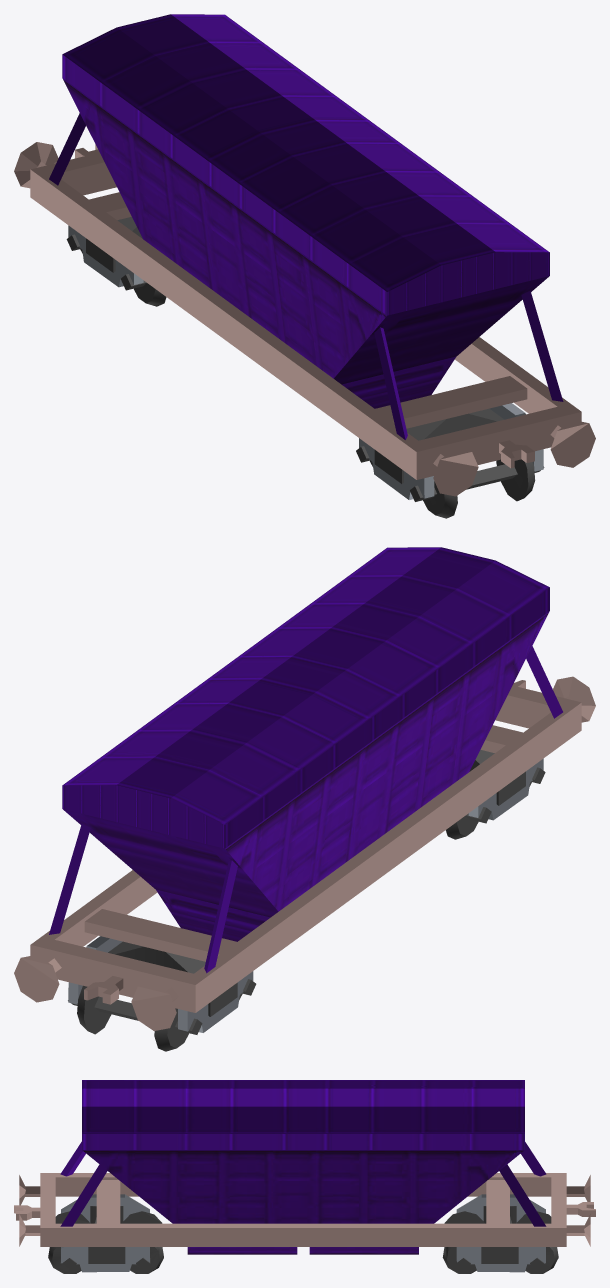
Rendered from hoppercarpurple.dae.
The picture shows the model from 3 angles, top to bottom: view 1: azimuth 30°, elevation 25°; view 2: azimuth 150°, elevation 25°; view 3: azimuth 270°, elevation 25°; orthographic projection. The views are drawn at different scales.
Parts seen in each view (by area): view 1: 9.0.242.0_Pts_Material_Surf, 9.0.242.0_Pts_Material__4__Surf, 9.0.242.0_Pts_Material__2__Surf, 9.0.242.0_Pts_Material__3__Surf; view 2: 9.0.242.0_Pts_Material_Surf, 9.0.242.0_Pts_Material__4__Surf, 9.0.242.0_Pts_Material__2__Surf, 9.0.242.0_Pts_Material__3__Surf; view 3: 9.0.242.0_Pts_Material_Surf, 9.0.242.0_Pts_Material__4__Surf, 9.0.242.0_Pts_Material__2__Surf, 9.0.242.0_Pts_Material__3__Surf.
Boxes of the visible parts, box(x1,y1,x2,y2) form: 9.0.242.0_Pts_Material_Surf: box(49, 14, 563, 439); 9.0.242.0_Pts_Material__4__Surf: box(14, 142, 595, 496); 9.0.242.0_Pts_Material__2__Surf: box(66, 216, 544, 518); 9.0.242.0_Pts_Material__3__Surf: box(68, 225, 543, 499); 9.0.242.0_Pts_Material_Surf: box(49, 547, 562, 973); 9.0.242.0_Pts_Material__4__Surf: box(14, 676, 595, 1030); 9.0.242.0_Pts_Material__2__Surf: box(68, 749, 545, 1051); 9.0.242.0_Pts_Material__3__Surf: box(68, 758, 543, 1032); 9.0.242.0_Pts_Material_Surf: box(60, 1080, 546, 1254); 9.0.242.0_Pts_Material__4__Surf: box(14, 1173, 595, 1246); 9.0.242.0_Pts_Material__2__Surf: box(48, 1206, 558, 1273); 9.0.242.0_Pts_Material__3__Surf: box(60, 1194, 545, 1272).
Size of the model in its own units: 3.2 by 4.47 by 14.32.
4 materials, 1 textured.
